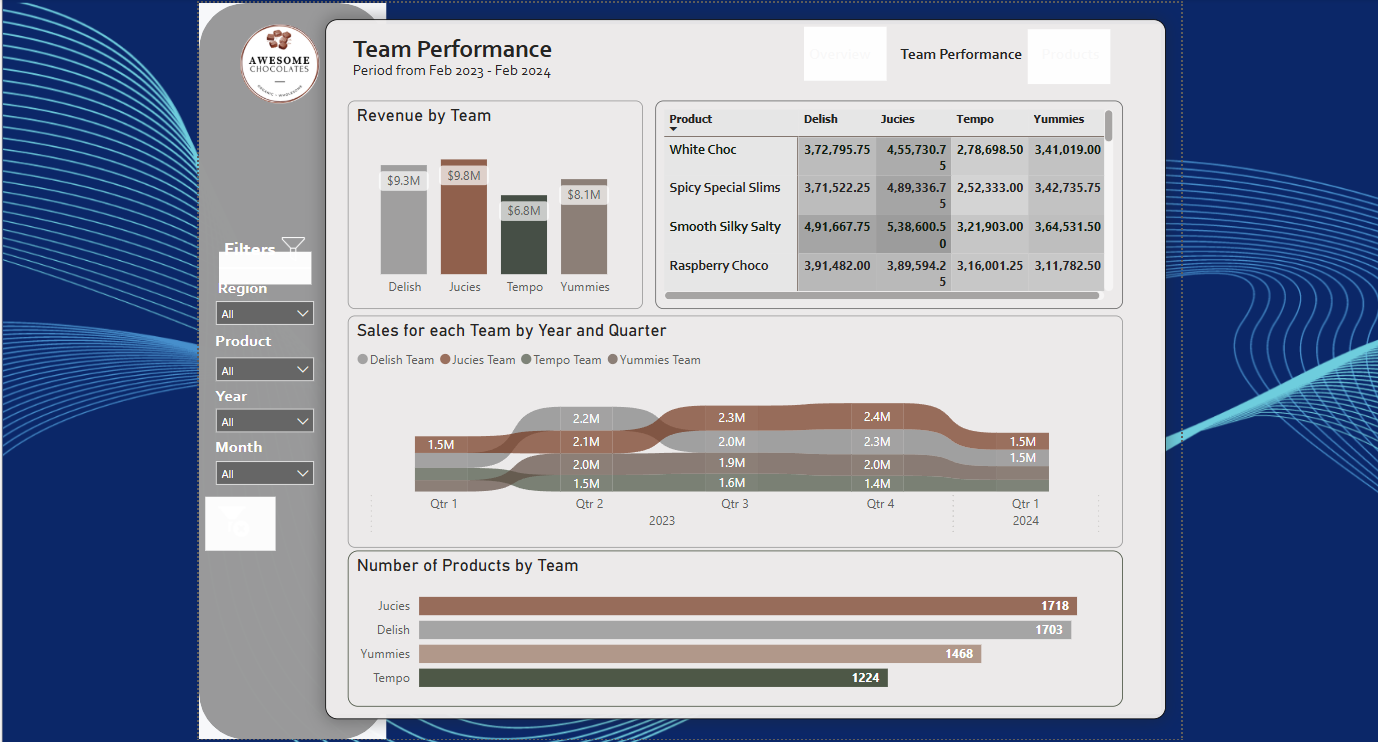

This screenshot's page, from the dashboard's own definition file:
{"tool":"powerbi","page":{"name":"Team Performance","canvas":[960,720],"ordinal":1},"visuals":[{"type":"shape","box":[0,0,183,720.6],"z":0},{"type":"shape","box":[123.1,16.2,822.6,684.9],"z":1000},{"type":"image","box":[35.6,16.2,87.4,87.4],"z":2000},{"type":"textbox","box":[19.4,223.5,72.9,35.6],"z":3000},{"type":"image","box":[74.5,215.4,35.6,51.8],"z":4000},{"type":"shape","box":[19.4,242.9,90.7,32.4],"z":5000},{"type":"slicer","fields":{"Values":["locations.Region"]},"box":[6.5,281.7,116.6,51.8],"z":6000},{"type":"slicer","fields":{"Values":["products.Product"]},"box":[6.5,336.8,116.6,50.2],"z":7000},{"type":"slicer","fields":{"Values":["calendar.Date.Variation.Date Hierarchy.Year"]},"box":[6.5,387,116.6,50.2],"z":8000},{"type":"textbox","box":[11.3,369.2,72.9,35.6],"z":9000},{"type":"textbox","box":[11.3,315.7,72.9,35.6],"z":10000},{"type":"textbox","box":[13,263.9,72.9,35.6],"z":11000},{"type":"textbox","box":[145.7,24.3,218.6,51.8],"z":12000},{"type":"textbox","box":[145.7,51.8,242.9,51.8],"z":13000},{"type":"slicer","fields":{"Values":["calendar.Date.Variation.Date Hierarchy.Month"]},"box":[6.5,437.2,116.6,51.8],"z":14000},{"type":"textbox","box":[11.3,419.4,72.9,35.6],"z":15000},{"type":"image","box":[8.6,483,47.7,44],"z":16000},{"type":"actionButton","box":[6.1,483,68.5,52.6],"z":17000},{"type":"textbox","box":[591.9,35.5,80.7,33],"z":18000},{"type":"textbox","box":[681.1,35.5,138.2,33],"z":19000},{"type":"actionButton","box":[591.9,23.2,80.7,52.6],"z":20000},{"type":"lineStackedColumnComboChart","fields":{"Category":["shipments.Product","people.Team"],"Y":["calendar.Revenue"]},"box":[145.5,95.4,288.6,204.2],"z":21000},{"type":"ribbonChart","title":"Sales for each Team by Year and Quarter","fields":{"Category":["calendar.Date.Variation.Date Hierarchy.Year","calendar.Date.Variation.Date Hierarchy.Quarter"],"Y":["Comparsions.Sales for Delish","Comparsions.Sales for Jucies","Comparsions.Sales for Tempo","Comparsions.Sales for Yummies"]},"box":[145.5,305.7,758.2,227.4],"z":22000},{"type":"pivotTable","fields":{"Rows":["shipments.Product"],"Values":["Sum(shipments.Sales)"],"Columns":["people.Team"]},"box":[446.3,95.4,457.3,204.2],"z":23000},{"type":"barChart","fields":{"Category":["people.Team"],"Y":["CountNonNull(shipments.Product)"]},"box":[145.5,535.6,758.2,152.9],"z":24000},{"type":"textbox","box":[819.3,35.5,80.7,33],"z":25000},{"type":"actionButton","box":[811.2,25.9,81,53.4],"z":26000}]}

Visuals, with their boxes on the page's 960x720 design canvas (x1, y1, x2, y2). These are canvas units, not pixel positions in the 1378x742 screenshot, which may show the page scaled, cropped or inside an application window:
shape: 0/0/183/721
shape: 123/16/946/701
image: 36/16/123/104
textbox: 19/224/92/259
image: 74/215/110/267
shape: 19/243/110/275
slicer - locations.Region: 6/282/123/334
slicer - products.Product: 6/337/123/387
slicer - calendar.Date.Variation.Date Hierarchy.Year: 6/387/123/437
textbox: 11/369/84/405
textbox: 11/316/84/351
textbox: 13/264/86/300
textbox: 146/24/364/76
textbox: 146/52/389/104
slicer - calendar.Date.Variation.Date Hierarchy.Month: 6/437/123/489
textbox: 11/419/84/455
image: 9/483/56/527
actionButton: 6/483/75/536
textbox: 592/36/673/68
textbox: 681/36/819/68
actionButton: 592/23/673/76
lineStackedColumnComboChart - shipments.Product x people.Team: 146/95/434/300
"Sales for each Team by Year and Quarter" ribbonChart: 146/306/904/533
pivotTable - shipments.Product x Sum(shipments.Sales): 446/95/904/300
barChart - people.Team x CountNonNull(shipments.Product): 146/536/904/688
textbox: 819/36/900/68
actionButton: 811/26/892/79
